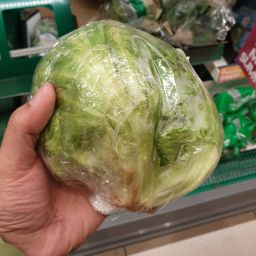Lettuce: (29, 17, 231, 226), (72, 67, 205, 187)
